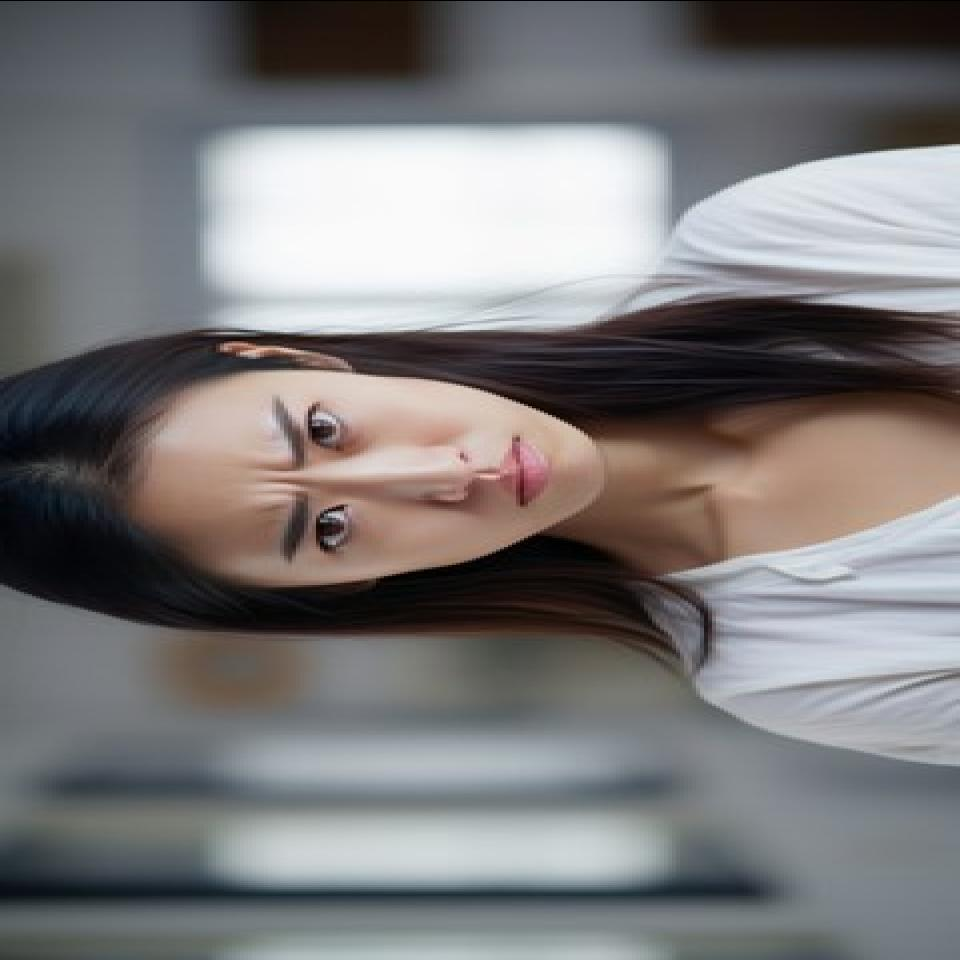Anger: (132, 370, 605, 585)
